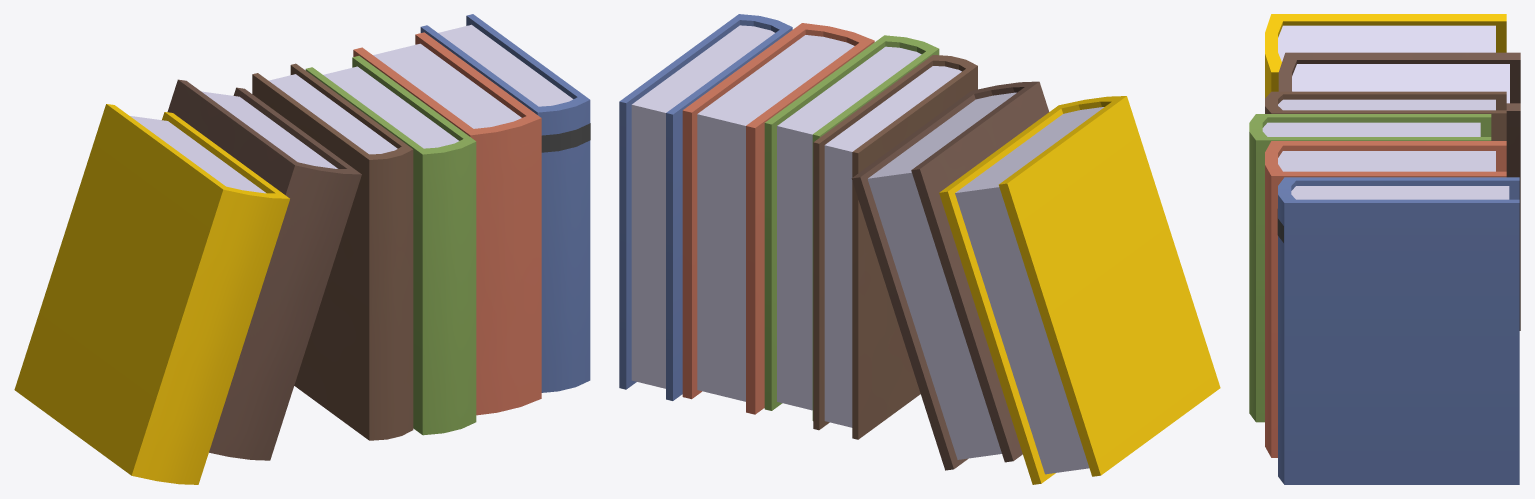
File: books1.fbx
The picture shows the model from 3 angles, left to right: view 1: azimuth 30°, elevation 25°; view 2: azimuth 150°, elevation 25°; view 3: azimuth 270°, elevation 25°; orthographic projection. The views are drawn at different scales.
Parts seen in each view (by area): view 1: books1; view 2: books1; view 3: books1.
Part boxes in pixels (x1,y1,x2,y2): books1: [14, 14, 590, 484]; books1: [619, 14, 1220, 484]; books1: [1249, 14, 1520, 484].
Bounding box in the file's own units: 45.72 × 27.16 × 22.99.
